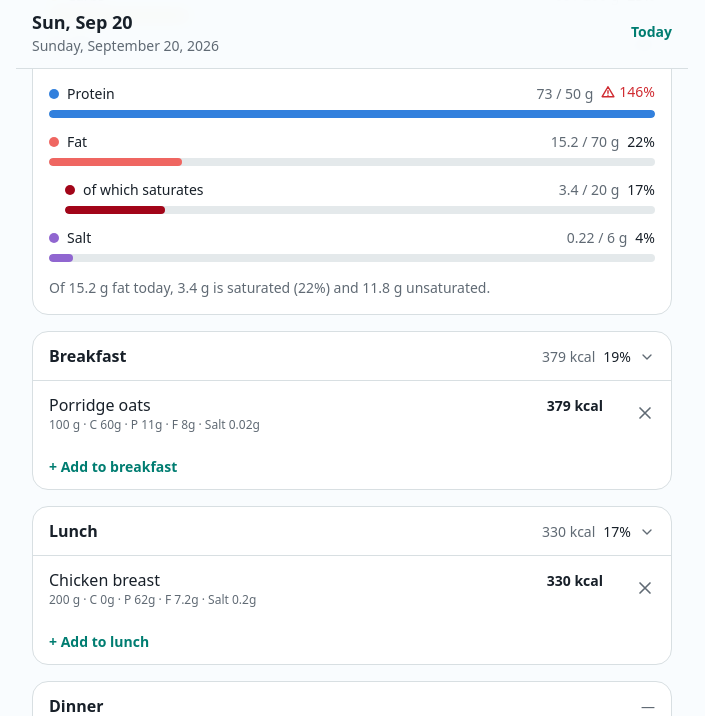
Test: TodayPage — per-meal breakdown › expands to the macro split for that meal alone
The image size is (705, 716).
(page scrolled)
What coordinates should you click on to do the following:
click the button "Breakfast 379 kcal 19%"
I would click on:
 (88, 356)
Its box is [33,332,671,381].
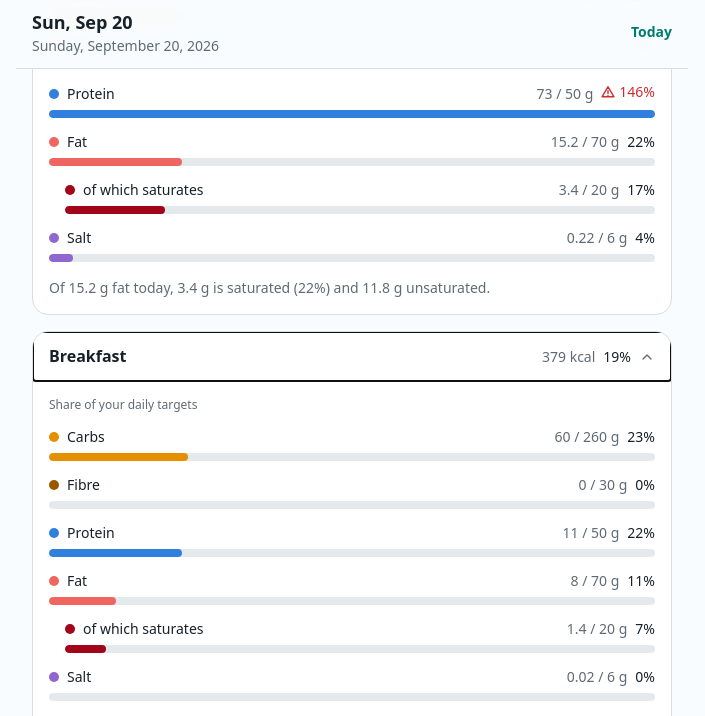
Expected: the button "Breakfast 379 kcal 19%" is expanded, [33,332,671,381]
Expected: the progress indicator named "Carbs: 23% of goal" is shown, [49,453,655,461]
Expected: the progress indicator named "Protein: 22% of goal" is shown, [49,549,655,557]
